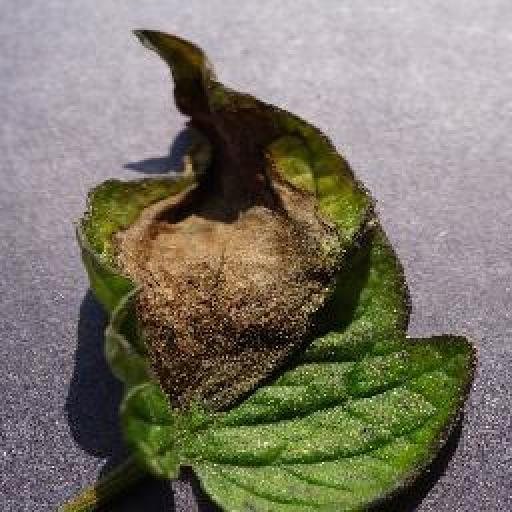Late Blight: (70, 26, 472, 512)
